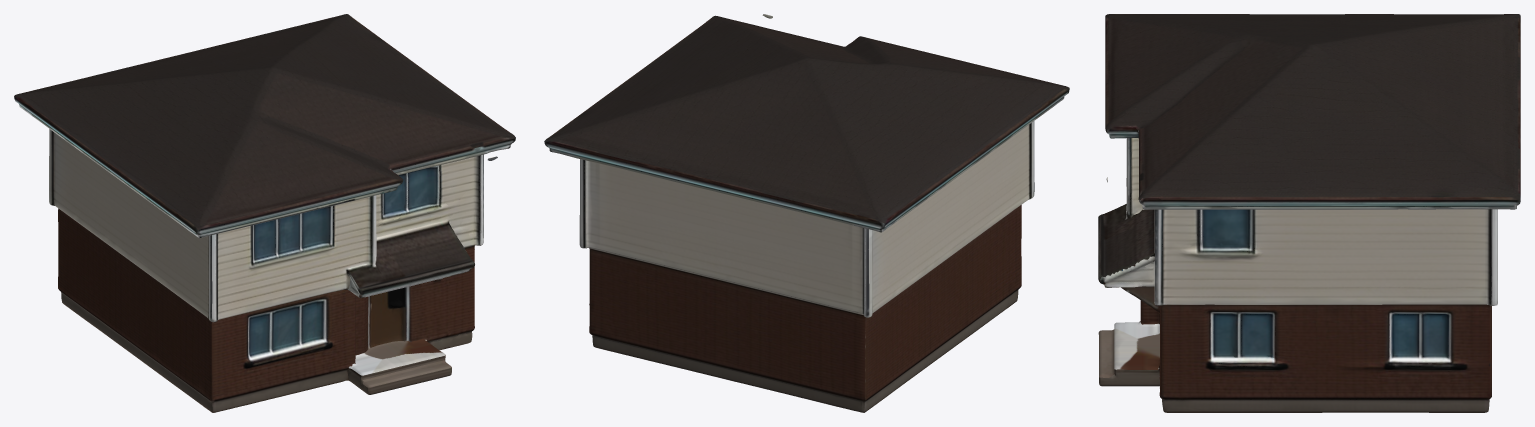
The model's file is house-split-level-house.glb.
3 renders of one model, left to right at view 1: azimuth 30°, elevation 25°; view 2: azimuth 150°, elevation 25°; view 3: azimuth 270°, elevation 25°, orthographic. The views are drawn at different scales.
Parts seen in each view (by area): view 1: tmp24jy3qx4.ply; view 2: tmp24jy3qx4.ply; view 3: tmp24jy3qx4.ply.
Part boxes in pixels (bbox=[...]): tmp24jy3qx4.ply: bbox=[14, 14, 515, 412]; tmp24jy3qx4.ply: bbox=[544, 14, 1069, 412]; tmp24jy3qx4.ply: bbox=[1098, 14, 1520, 412].
Size of the model in its own units: 1.96 by 1.45 by 1.89.
Materials: 1 (1 with a texture image).
